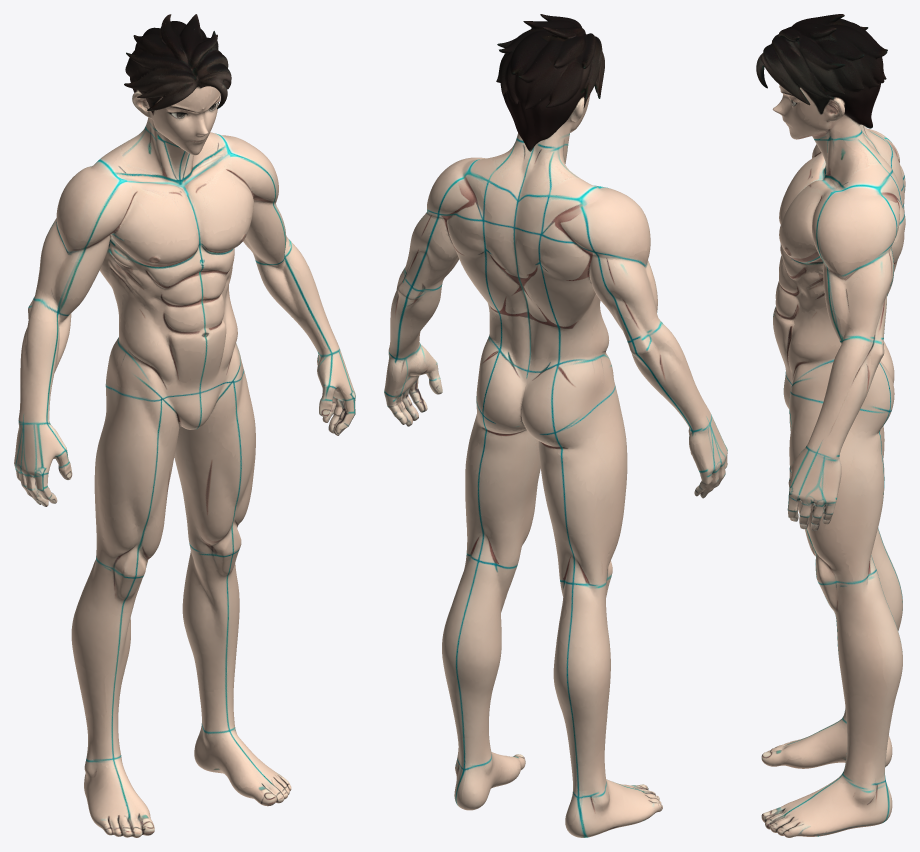
File: Character_Base_Male_Apose.glb
3 views of the same model, side by side, from view 1: azimuth 30°, elevation 25°; view 2: azimuth 150°, elevation 25°; view 3: azimuth 270°, elevation 25° (orthographic).
Size of the model in its own units: 0.8375 by 1.9 by 0.3299.
1 material, 1 textured.
